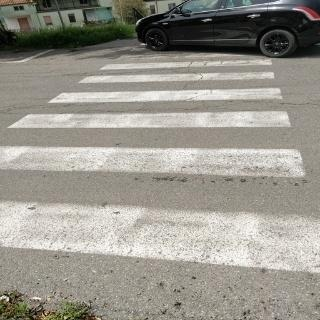road_crosswalk: (4, 66, 317, 284)
